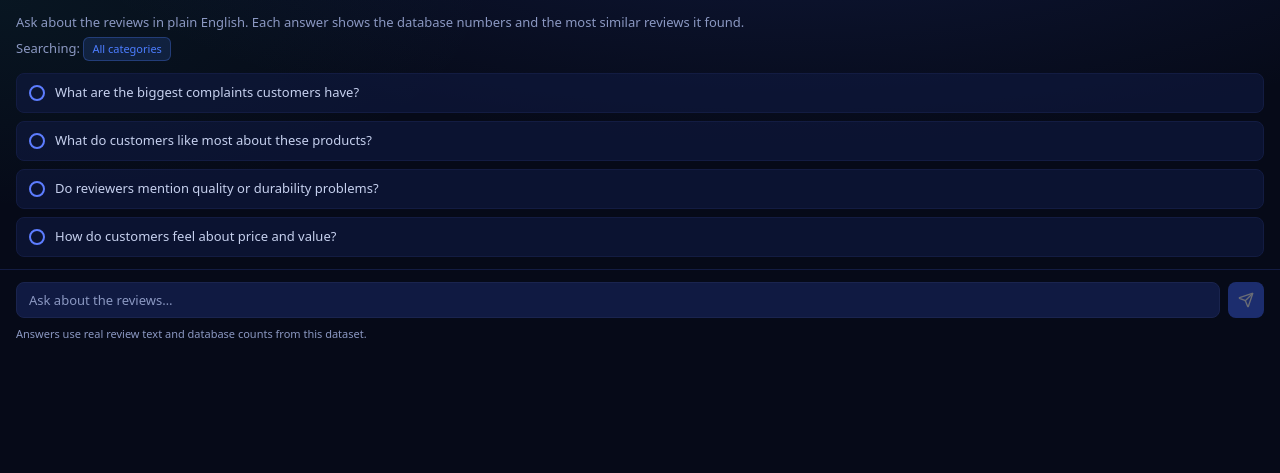
Test case: AssistantChat › shows an error with a working retry, and does not invent an answer
The image size is (1280, 473).
Type "Any complaints?" into the field named "ask a question" at x=618, y=300, box [16,282,1220,318]
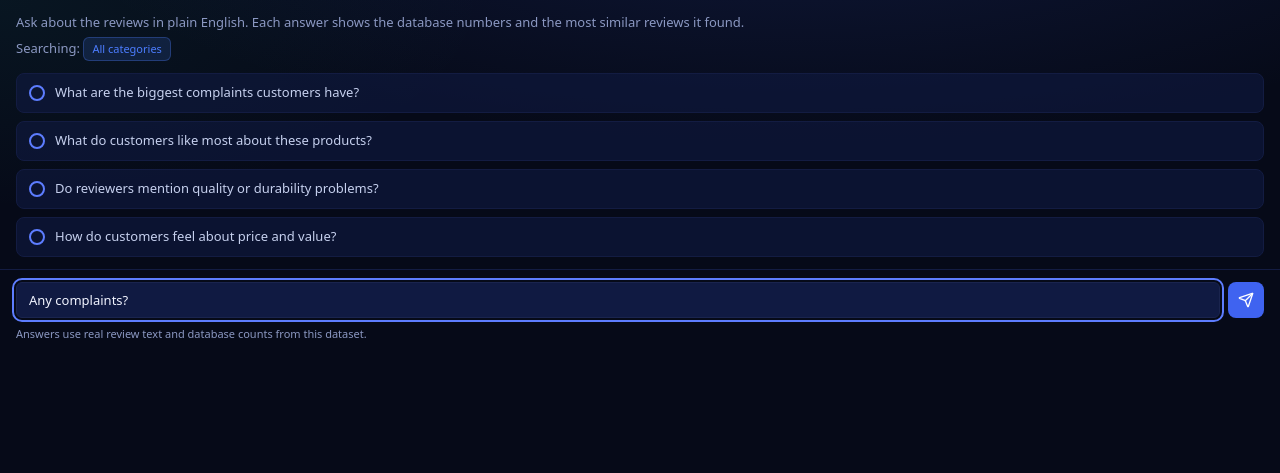
Click the button named "send question" at x=1246, y=300, box [1228,282,1264,318]
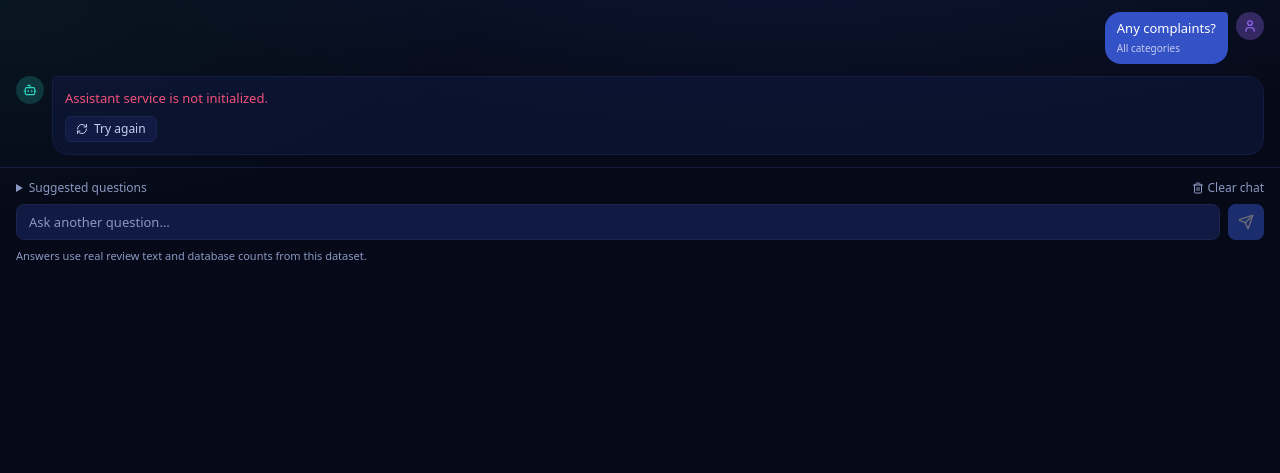
Expected: the text "Evidence from" is not shown
Expected: the message shows "Assistant service is not initialized.", [65,89,268,107]
Click the button "Try again" at x=111, y=129, box [65,116,157,142]
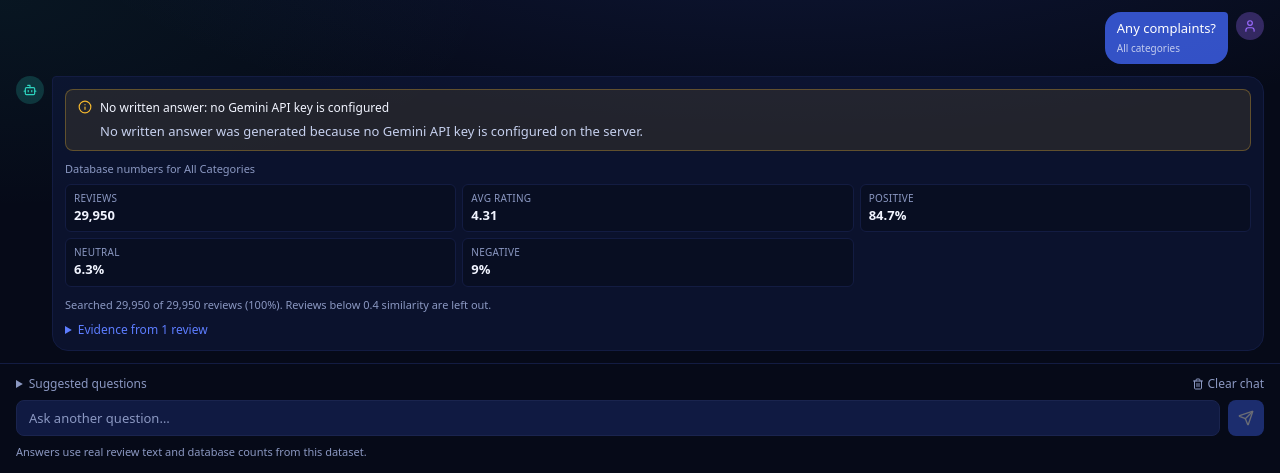
Expected: the heading "Evidence from 1 review" is shown, [78,321,208,338]
